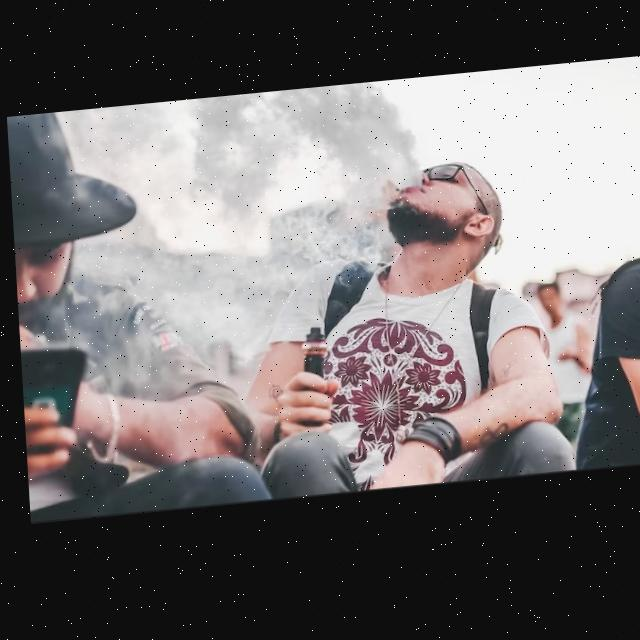vape: (298, 332, 321, 386)
